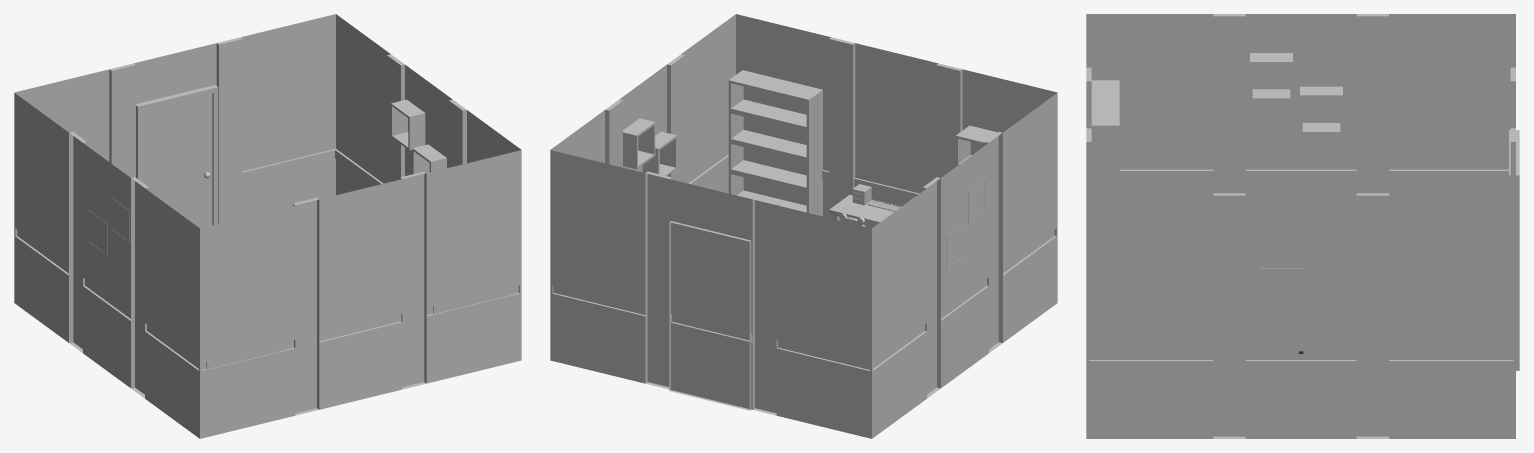
File: NewWorkshop_001.fbx
The picture shows the model from 3 angles, left to right: view 1: azimuth 30°, elevation 25°; view 2: azimuth 150°, elevation 25°; view 3: azimuth 270°, elevation 25°; orthographic projection. The views are drawn at different scales.
Parts seen in each view (by area): view 1: Wall_lp.005, Wall_lp.004, Wall_lp.003, Wall_lp.002, Door.001, CubeShelf.004, Bookshelf.001, CubeShelf.005; view 2: Wall_lp.003, Wall_lp.004, Wall_lp.005, Wall_lp.002, Bookshelf.001, CubeShelf.004, Door.001, CubeShelf.005, Table.002; view 3: Wall_lp.002, Wall_lp.004, Bookshelf.001, CubeShelf.007, CubeShelf.006, Door.001, Wall_lp.005, Wall_lp.003, CubeShelf.005, CubeShelf.004.
Boxes of the visible parts, x1,y1,x2,y2 form: Wall_lp.005: (199,150,521,438); Wall_lp.004: (14,93,201,438); Wall_lp.003: (14,14,336,236); Wall_lp.002: (335,14,521,293); Door.001: (136,85,218,228); CubeShelf.004: (391,99,425,150); Bookshelf.001: (206,286,513,369); CubeShelf.005: (412,144,446,173); Wall_lp.003: (550,150,872,438); Wall_lp.004: (870,93,1057,438); Wall_lp.005: (736,14,1057,236); Wall_lp.002: (550,14,735,293); Bookshelf.001: (728,70,997,216); CubeShelf.004: (623,118,655,169); Door.001: (669,221,752,410); CubeShelf.005: (642,131,676,175); Table.002: (829,195,894,225); Wall_lp.002: (1086,193,1515,438); Wall_lp.004: (1086,14,1515,195); Bookshelf.001: (1091,80,1119,195); CubeShelf.007: (1300,86,1342,134); CubeShelf.006: (1250,53,1292,100); Door.001: (1509,130,1519,370); Wall_lp.005: (1086,67,1091,360); Wall_lp.003: (1510,67,1515,360); CubeShelf.005: (1259,268,1302,307); CubeShelf.004: (1309,234,1352,273).
Size of the model in its own units: 401 by 250 by 403.
